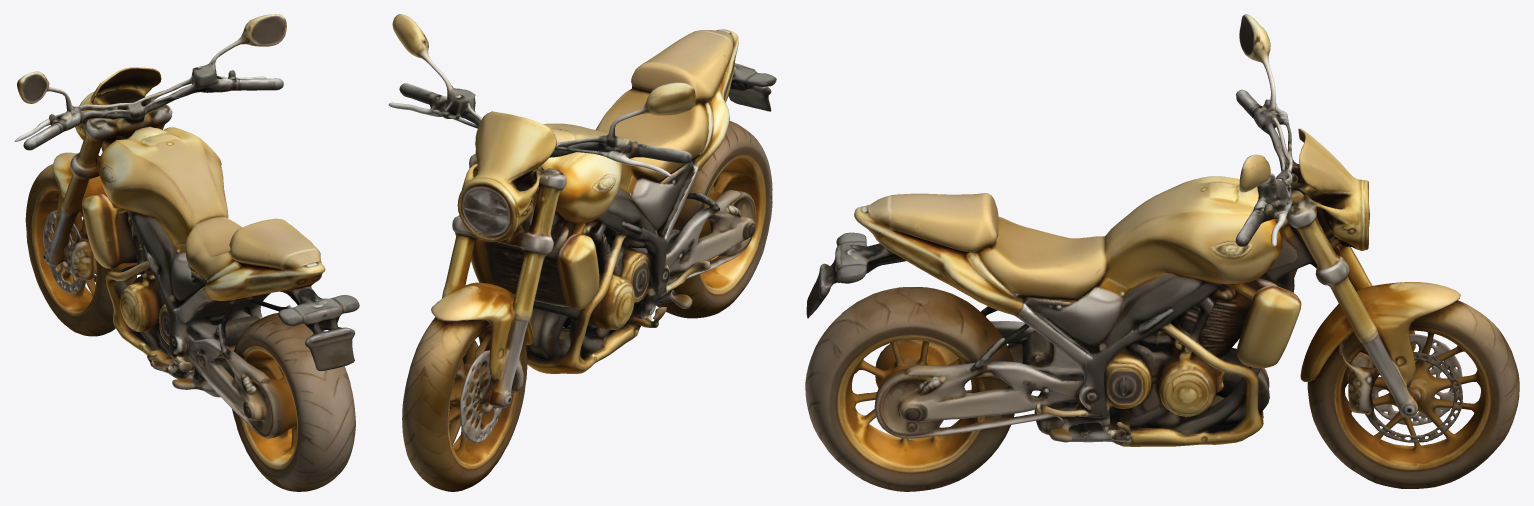
The model's file is bike_gold.glb.
3 renders of one model, left to right at view 1: azimuth 30°, elevation 25°; view 2: azimuth 150°, elevation 25°; view 3: azimuth 270°, elevation 25°, orthographic. The views are drawn at different scales.
Parts seen in each view (by area): view 1: tripo_node_975579df; view 2: tripo_node_975579df; view 3: tripo_node_975579df.
Boxes of the visible parts, box(x1,y1,x2,y2) form: tripo_node_975579df: box(14, 14, 359, 491); tripo_node_975579df: box(388, 14, 776, 491); tripo_node_975579df: box(805, 14, 1519, 491).
Size of the model in its own units: 1.08 by 1.3 by 2.1.
1 material, 1 textured.
